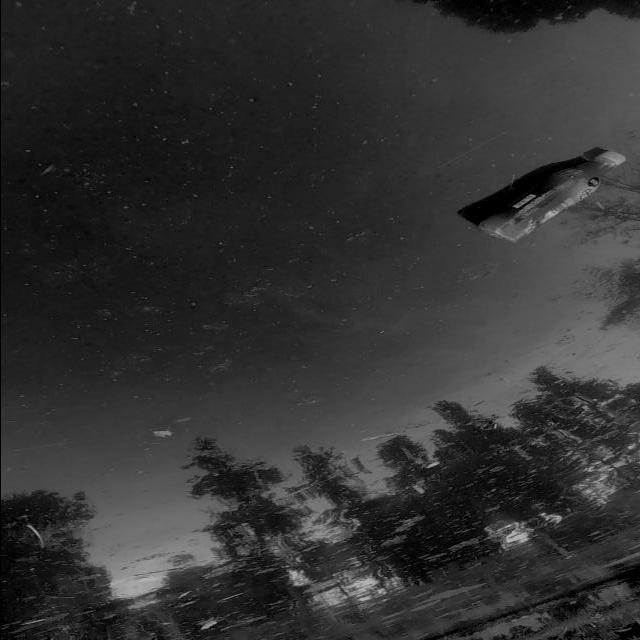bottle: (438, 136, 640, 260)
